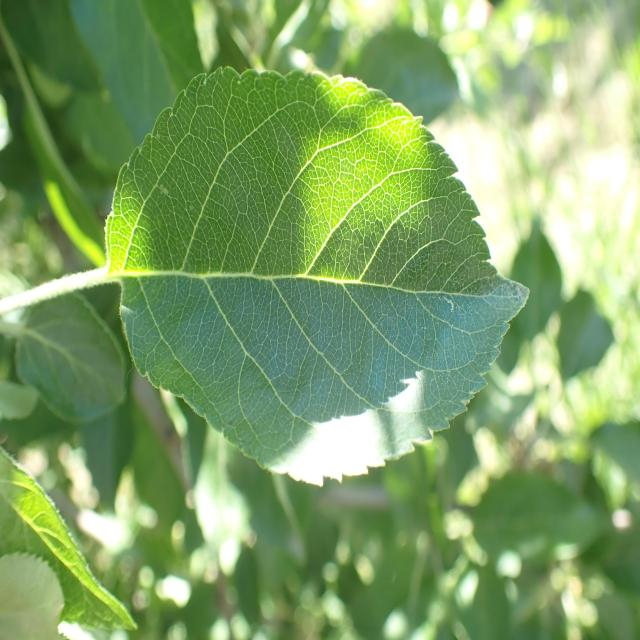healthy: (104, 64, 530, 483), (0, 443, 139, 638), (14, 286, 130, 424)
